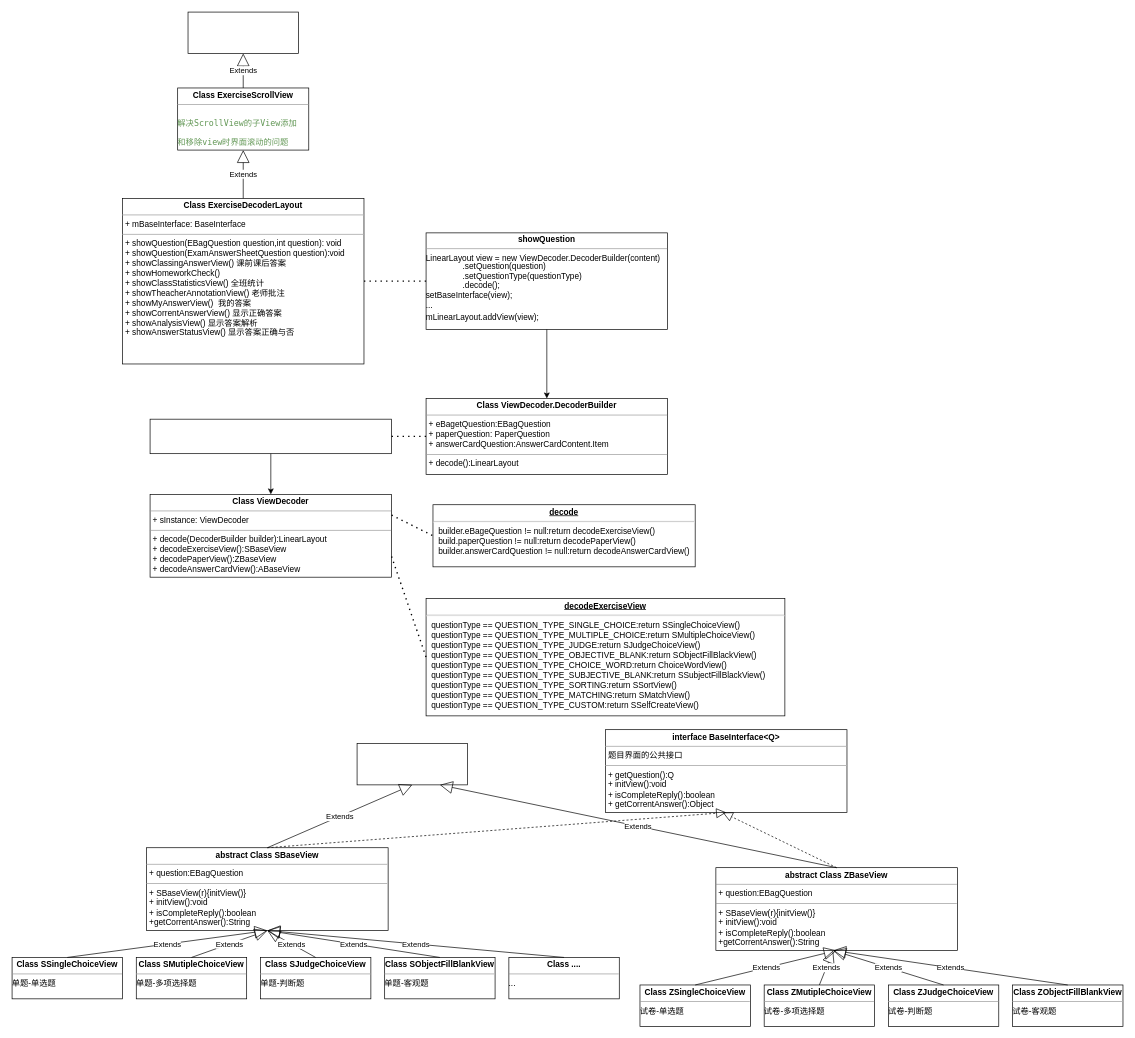
Image size: 1135x1038. Some labels were removed from this diagram. Here are the shapes that lost their labels. From the top down, the box of each, then its label:
(187, 11, 298, 53): Class NestedScrollView 横向滚动 View
(149, 418, 392, 454): decode return ViewDecoder.getInstance().decode(this);
(356, 743, 467, 785): Class LinearLayout 布局
